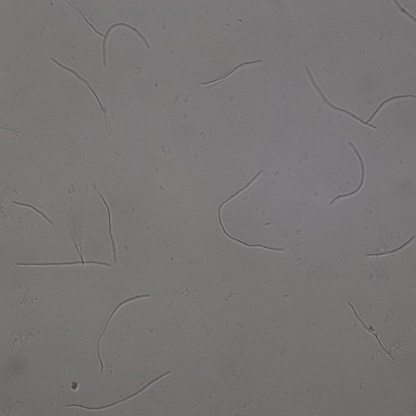Sensitive: (218, 170, 284, 252), (69, 1, 151, 66), (96, 291, 152, 373), (52, 58, 111, 135), (304, 67, 376, 128), (64, 370, 171, 411), (348, 301, 393, 360), (330, 142, 366, 205), (95, 188, 119, 262), (201, 60, 263, 85), (365, 92, 416, 122), (16, 256, 111, 272), (365, 233, 414, 256), (14, 200, 54, 224)
